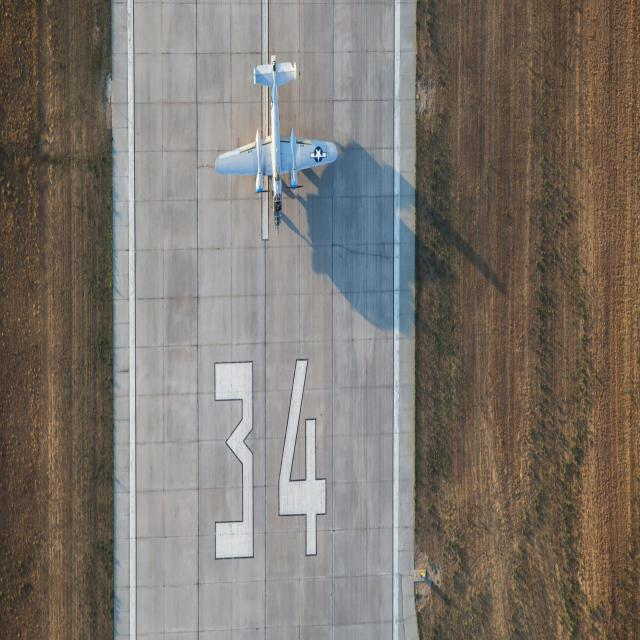plain: (210, 46, 350, 234)
